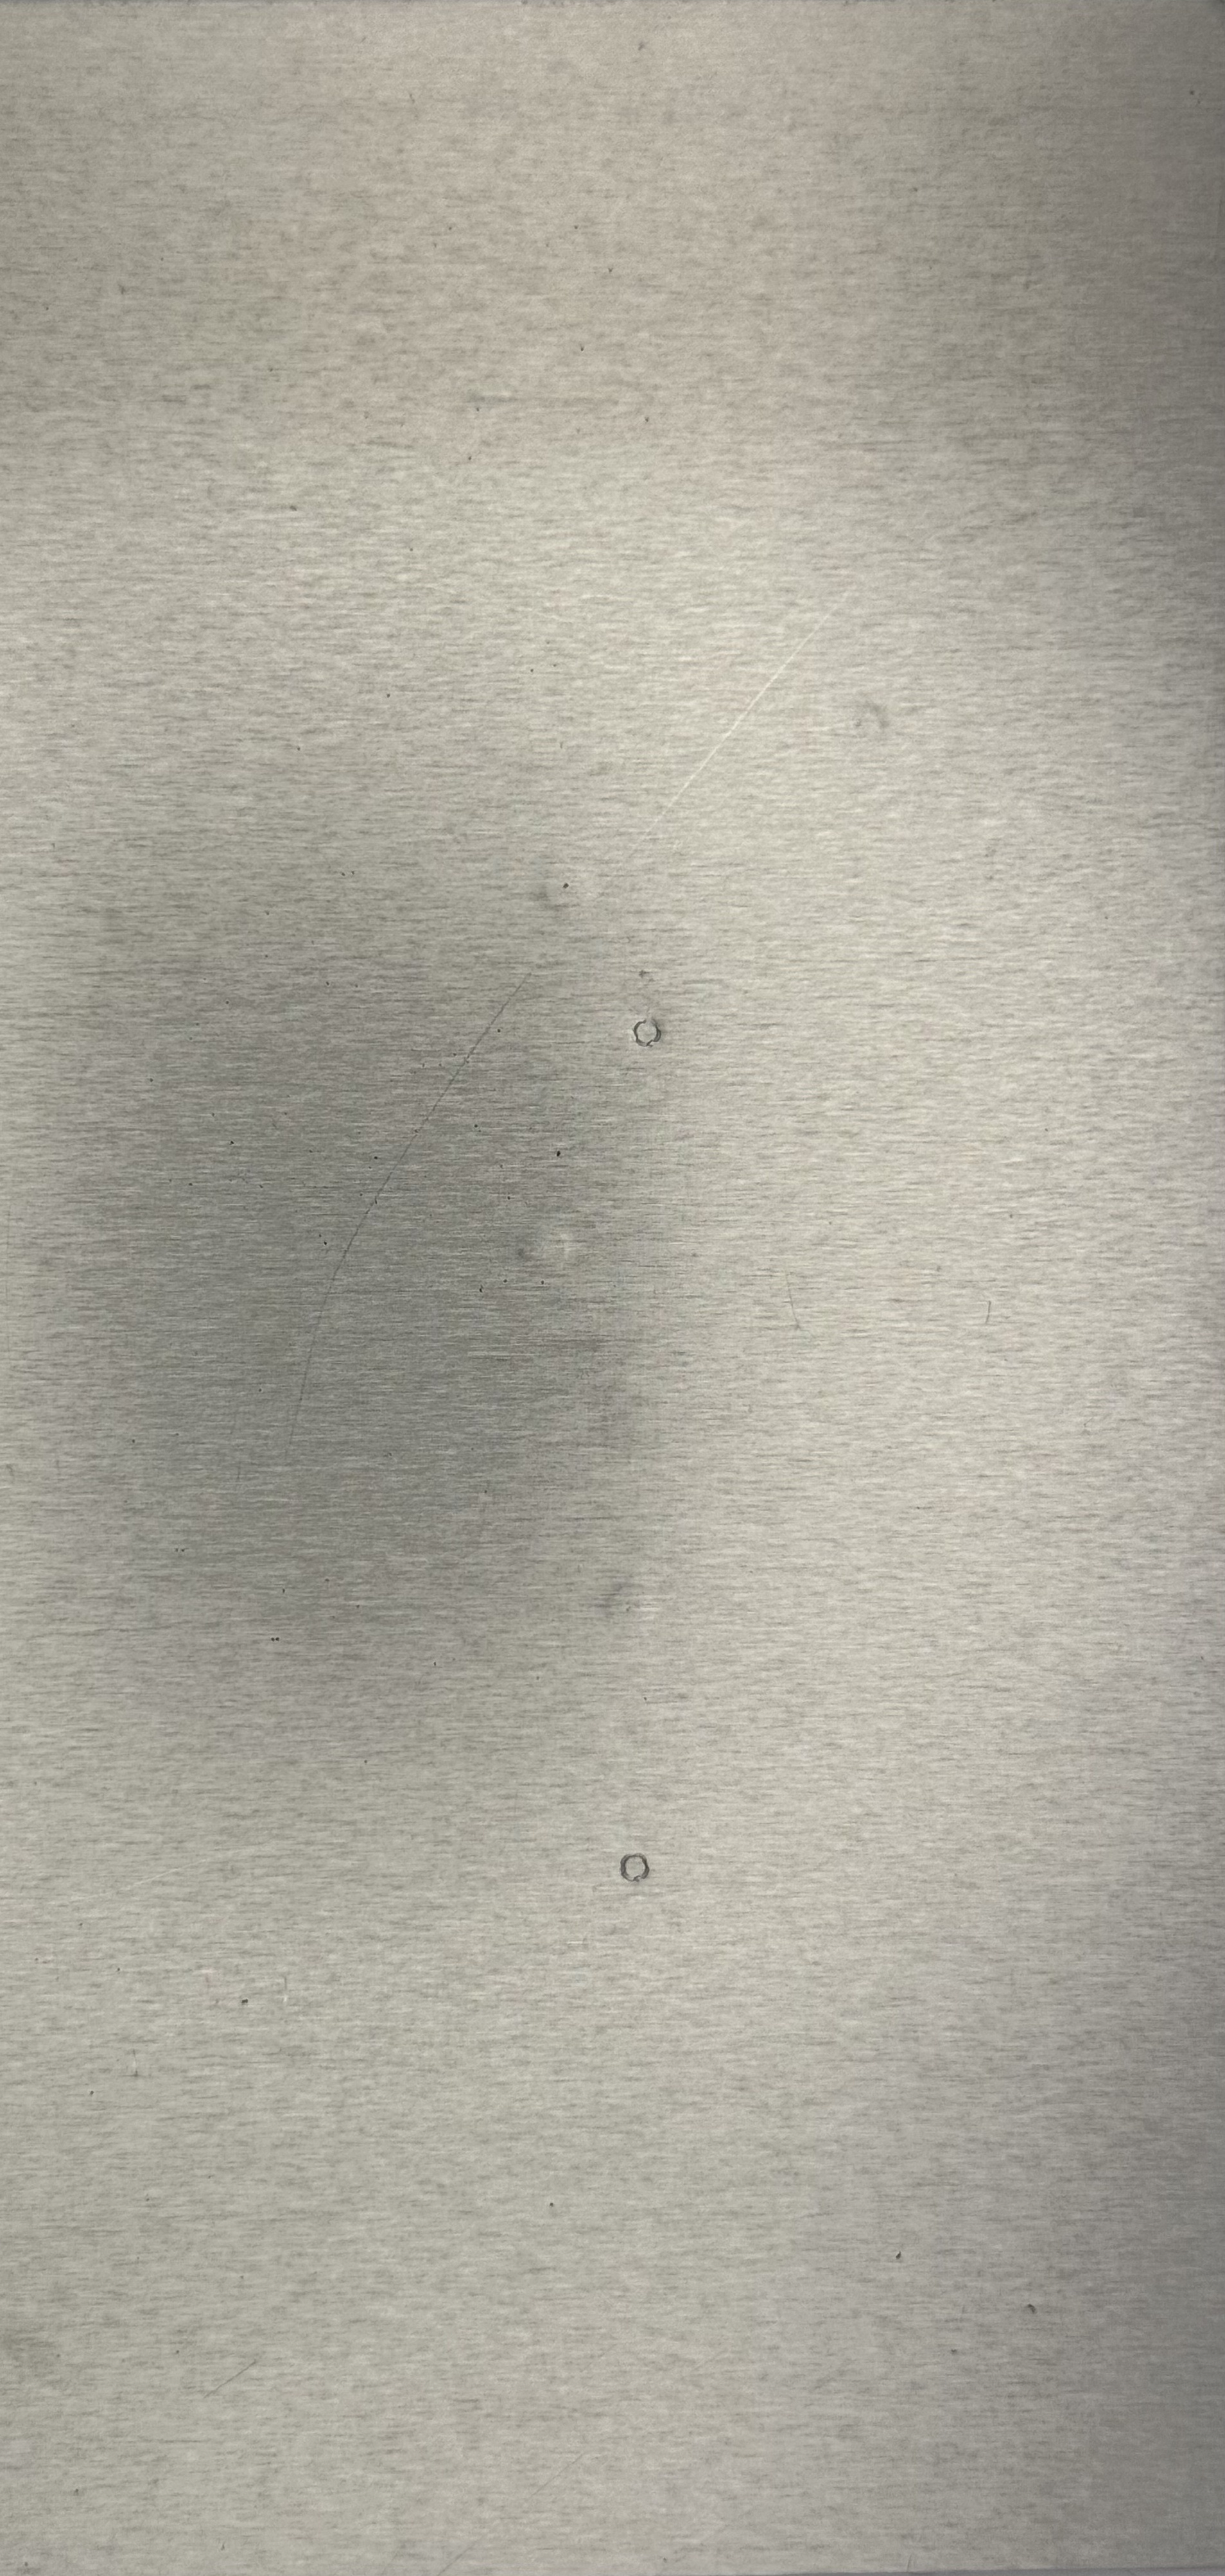Delle: (576, 1544, 711, 1669), (502, 1196, 632, 1296), (516, 833, 627, 941), (813, 682, 924, 779), (606, 1005, 698, 1066), (606, 1845, 672, 1896)
